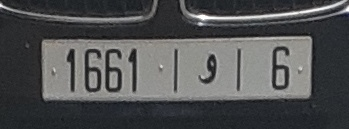1: (60, 46, 80, 96), (125, 46, 142, 96)
6: (268, 43, 292, 93), (81, 46, 103, 95), (103, 46, 125, 94)
waw: (194, 49, 223, 87)
